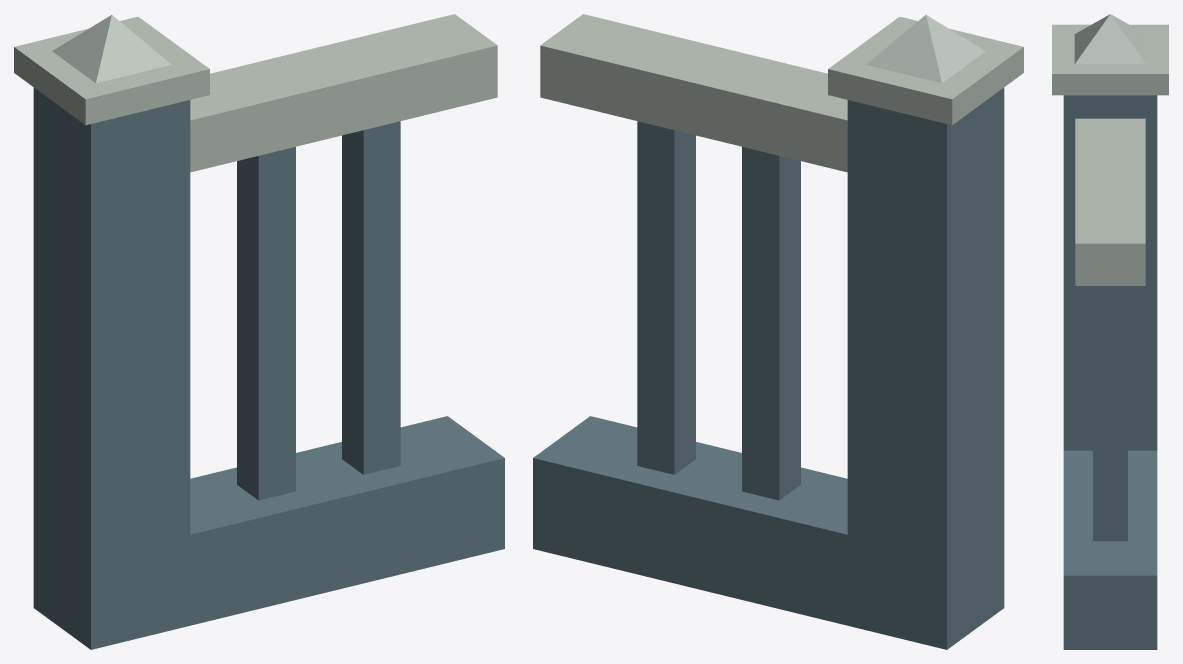
File: rail_section_1m.glb
The picture shows the model from 3 angles, left to right: view 1: azimuth 30°, elevation 25°; view 2: azimuth 150°, elevation 25°; view 3: azimuth 270°, elevation 25°; orthographic projection. The views are drawn at different scales.
Visible parts, largest first — view 1: RailSection1M / Stone, RailSection1M / Coping; view 2: RailSection1M / Stone, RailSection1M / Coping; view 3: RailSection1M / Stone, RailSection1M / Coping.
Part boxes in pixels (x1,y1,x2,y2): RailSection1M / Stone: (33, 87, 504, 649); RailSection1M / Coping: (14, 14, 497, 172); RailSection1M / Stone: (533, 87, 1004, 649); RailSection1M / Coping: (540, 14, 1023, 172); RailSection1M / Stone: (1063, 95, 1157, 649); RailSection1M / Coping: (1052, 14, 1168, 285).
Bounding box in the file's own units: 1.03 × 1.39 × 0.3.
